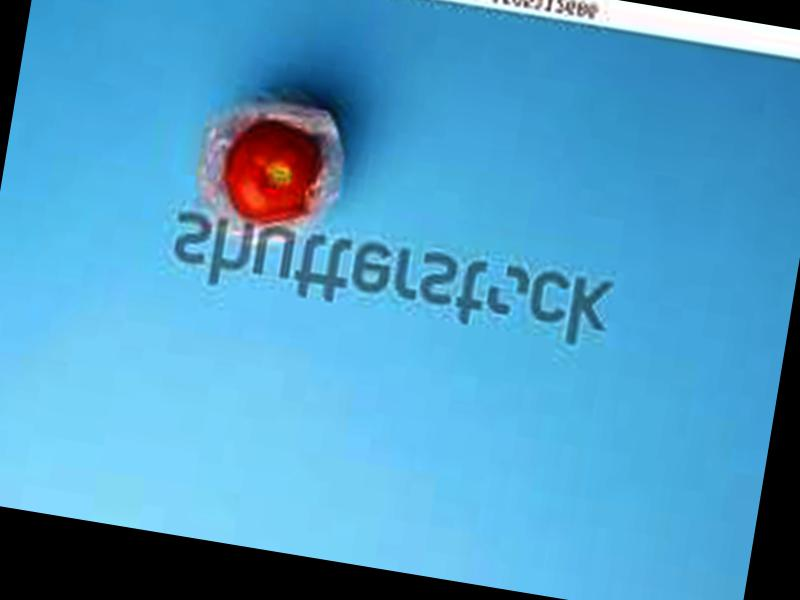Tomato: (220, 117, 327, 230)
